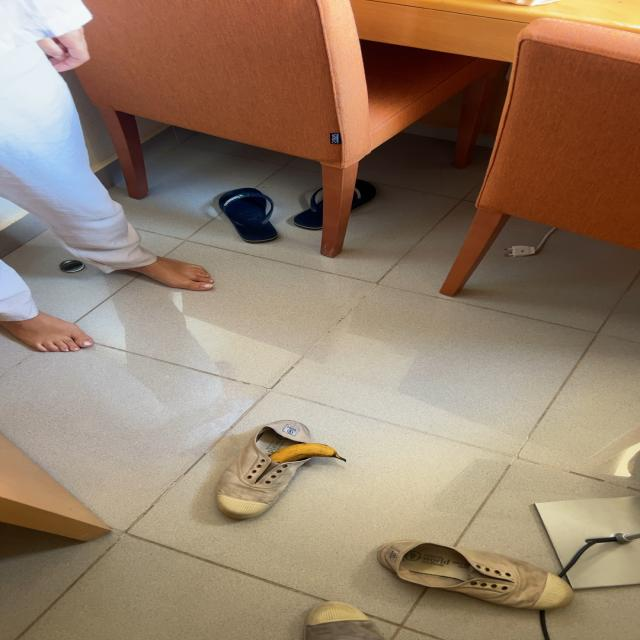bananas: (271, 443, 345, 463)
